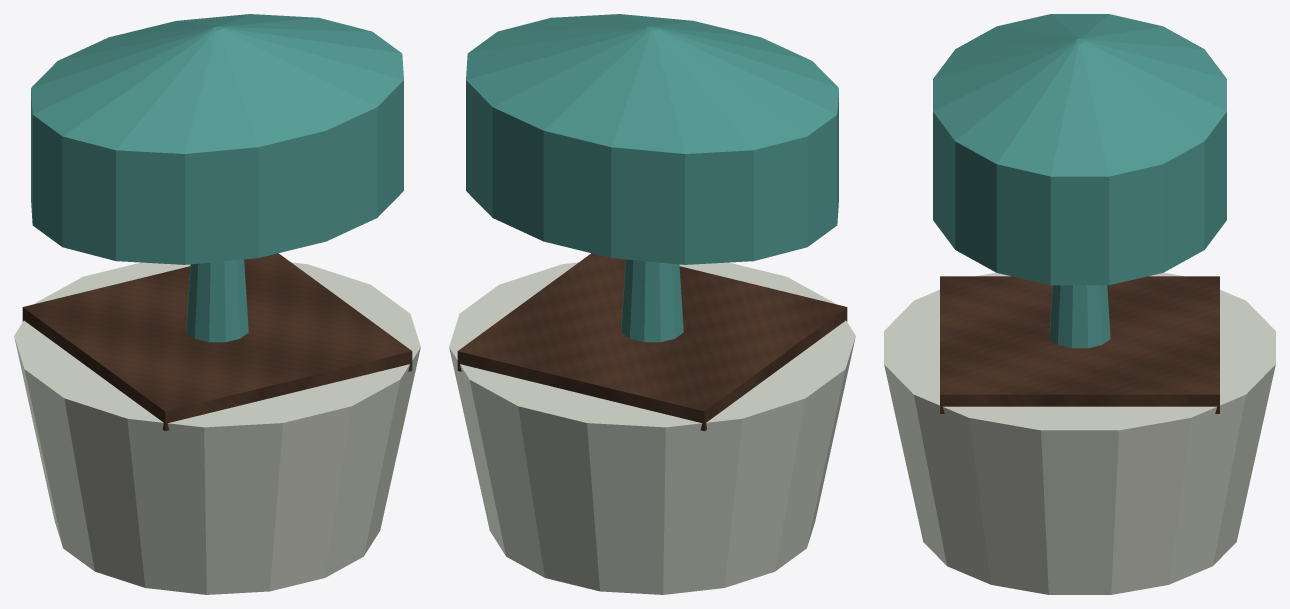
File: City_Planter.glb
3 views of the same model, side by side, from view 1: azimuth 30°, elevation 25°; view 2: azimuth 150°, elevation 25°; view 3: azimuth 270°, elevation 25° (orthographic). The views are drawn at different scales.
Visible parts, largest first — view 1: City_Planter_AlienFoliage, City_Planter_Vessel, City_Planter_Soil; view 2: City_Planter_AlienFoliage, City_Planter_Vessel, City_Planter_Soil; view 3: City_Planter_AlienFoliage, City_Planter_Vessel, City_Planter_Soil.
Boxes of the visible parts, <box> form: City_Planter_AlienFoliage: <box>31,14,403,342</box>; City_Planter_Vessel: <box>14,262,420,594</box>; City_Planter_Soil: <box>22,253,412,431</box>; City_Planter_AlienFoliage: <box>466,14,838,342</box>; City_Planter_Vessel: <box>449,262,855,594</box>; City_Planter_Soil: <box>457,253,847,431</box>; City_Planter_AlienFoliage: <box>933,14,1226,348</box>; City_Planter_Vessel: <box>884,272,1275,594</box>; City_Planter_Soil: <box>940,276,1219,413</box>.
Bounding box in the file's own units: 1.47 × 2.02 × 1.47.
3 materials, 1 textured.
